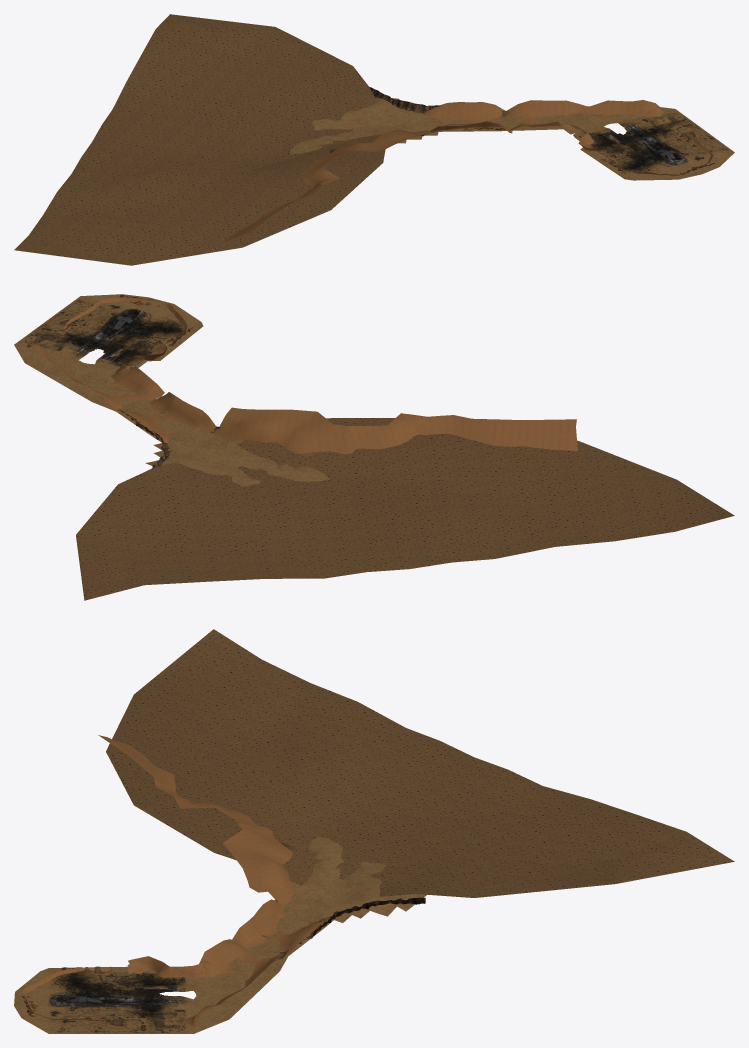
Rendered from collision_terrain.dae.
The picture shows the model from 3 angles, top to bottom: view 1: azimuth 30°, elevation 25°; view 2: azimuth 150°, elevation 25°; view 3: azimuth 270°, elevation 25°; orthographic projection. The views are drawn at different scales.
Visible parts, largest first — view 1: terrain_objects34, terrain_objects33, terrain_objects32, terrain_objects24, terrain_objects22, terrain_objects25, terrain_objects23, terrain_objects02, terrain_objects31, terrain_objects26, terrain_objects07, terrain_objects00 (+9 smaller); view 2: terrain_objects34, terrain_objects33, terrain_objects32, terrain_objects24, terrain_objects23, terrain_objects22, terrain_objects31, terrain_objects25, terrain_objects26, terrain_objects02, terrain_objects30, terrain_objects00 (+9 smaller); view 3: terrain_objects34, terrain_objects33, terrain_objects32, terrain_objects24, terrain_objects22, terrain_objects23, terrain_objects31, terrain_objects25, terrain_objects26, terrain_objects02, terrain_objects00, terrain_objects07 (+7 smaller).
Boxes of the visible parts, bbox=[...] form: terrain_objects34: bbox=[39, 14, 349, 220]; terrain_objects33: bbox=[14, 165, 335, 265]; terrain_objects32: bbox=[174, 14, 378, 132]; terrain_objects24: bbox=[272, 143, 383, 205]; terrain_objects22: bbox=[264, 25, 410, 117]; terrain_objects25: bbox=[571, 100, 674, 127]; terrain_objects23: bbox=[331, 119, 419, 160]; terrain_objects02: bbox=[537, 100, 596, 134]; terrain_objects31: bbox=[377, 105, 442, 139]; terrain_objects26: bbox=[503, 104, 568, 130]; terrain_objects07: bbox=[618, 159, 686, 180]; terrain_objects00: bbox=[639, 158, 728, 180]; terrain_objects34: bbox=[84, 453, 628, 600]; terrain_objects33: bbox=[369, 415, 734, 538]; terrain_objects32: bbox=[77, 459, 258, 597]; terrain_objects24: bbox=[282, 411, 425, 477]; terrain_objects23: bbox=[206, 409, 315, 473]; terrain_objects22: bbox=[76, 445, 202, 541]; terrain_objects31: bbox=[165, 407, 251, 460]; terrain_objects25: bbox=[14, 342, 101, 389]; terrain_objects26: bbox=[96, 366, 157, 408]; terrain_objects02: bbox=[70, 364, 128, 401]; terrain_objects30: bbox=[158, 396, 203, 431]; terrain_objects00: bbox=[97, 294, 197, 319]; terrain_objects34: bbox=[298, 677, 734, 867]; terrain_objects33: bbox=[98, 629, 298, 817]; terrain_objects32: bbox=[347, 852, 729, 894]; terrain_objects24: bbox=[142, 797, 298, 861]; terrain_objects22: bbox=[353, 880, 627, 914]; terrain_objects23: bbox=[219, 844, 347, 893]; terrain_objects31: bbox=[246, 876, 352, 914]; terrain_objects25: bbox=[194, 978, 262, 1033]; terrain_objects26: bbox=[199, 940, 270, 971]; terrain_objects02: bbox=[194, 960, 279, 986]; terrain_objects00: bbox=[14, 973, 37, 1027]; terrain_objects07: bbox=[38, 967, 64, 1002].
Size of the model in its own units: 324 by 253 by 10.28.
Materials: 6 (6 with a texture image).
